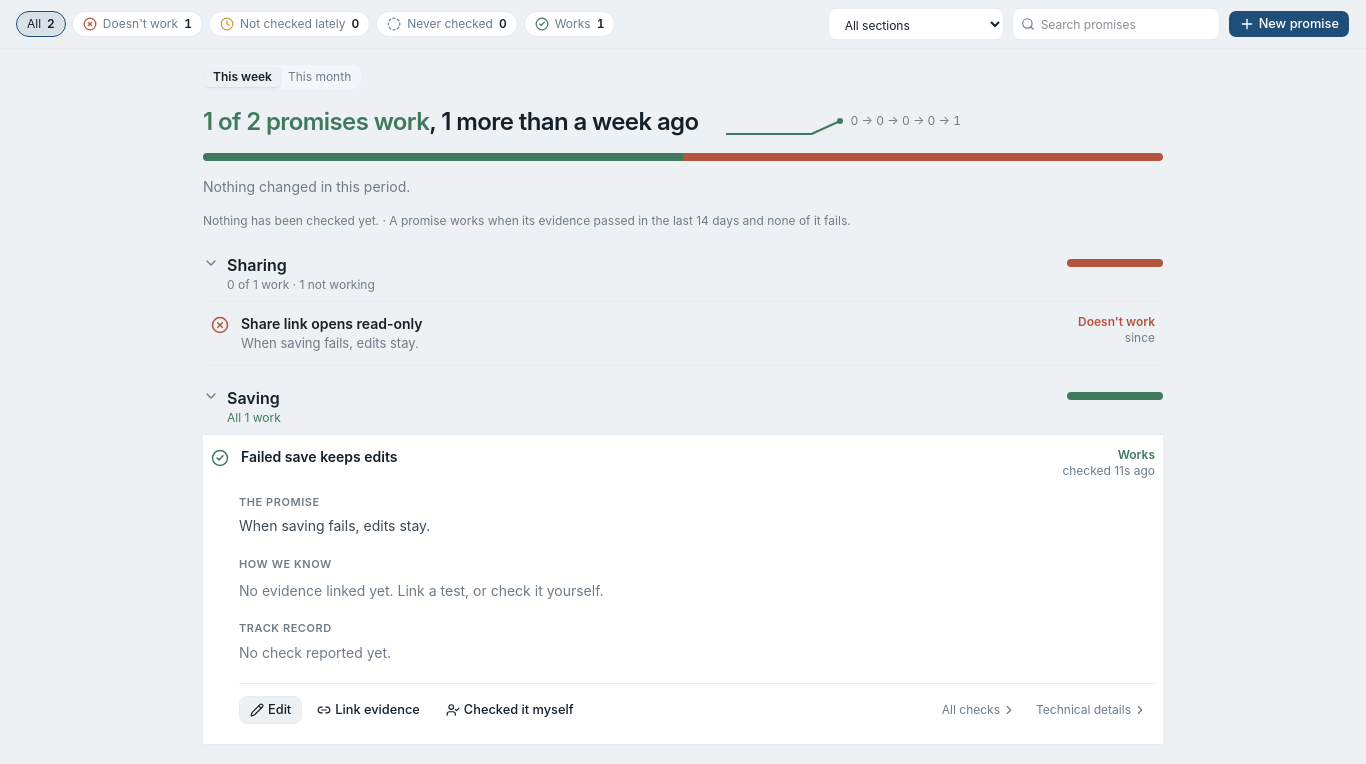
it: TestsView › records a check by hand under the promise's own key
Expected: the text "No check reported yet." is shown, [239,644,391,661]
Click the button "Checked it myself". click: {"x": 510, "y": 710}
box: [435,696,584,724]
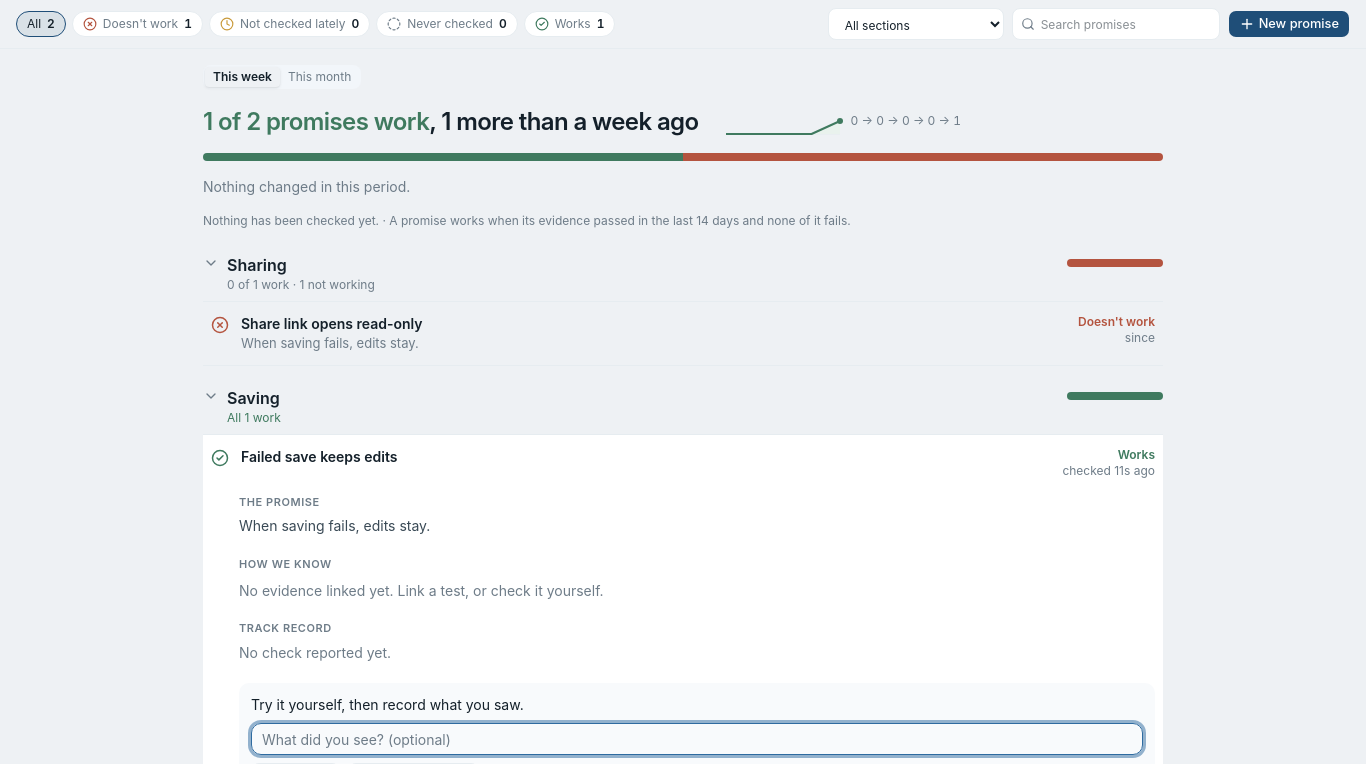
Type "Edits survived a failed save" into the field labelled "What did you see? (optional)". click: {"x": 697, "y": 739}
box: [251,723,1143,755]
(page scrolled)
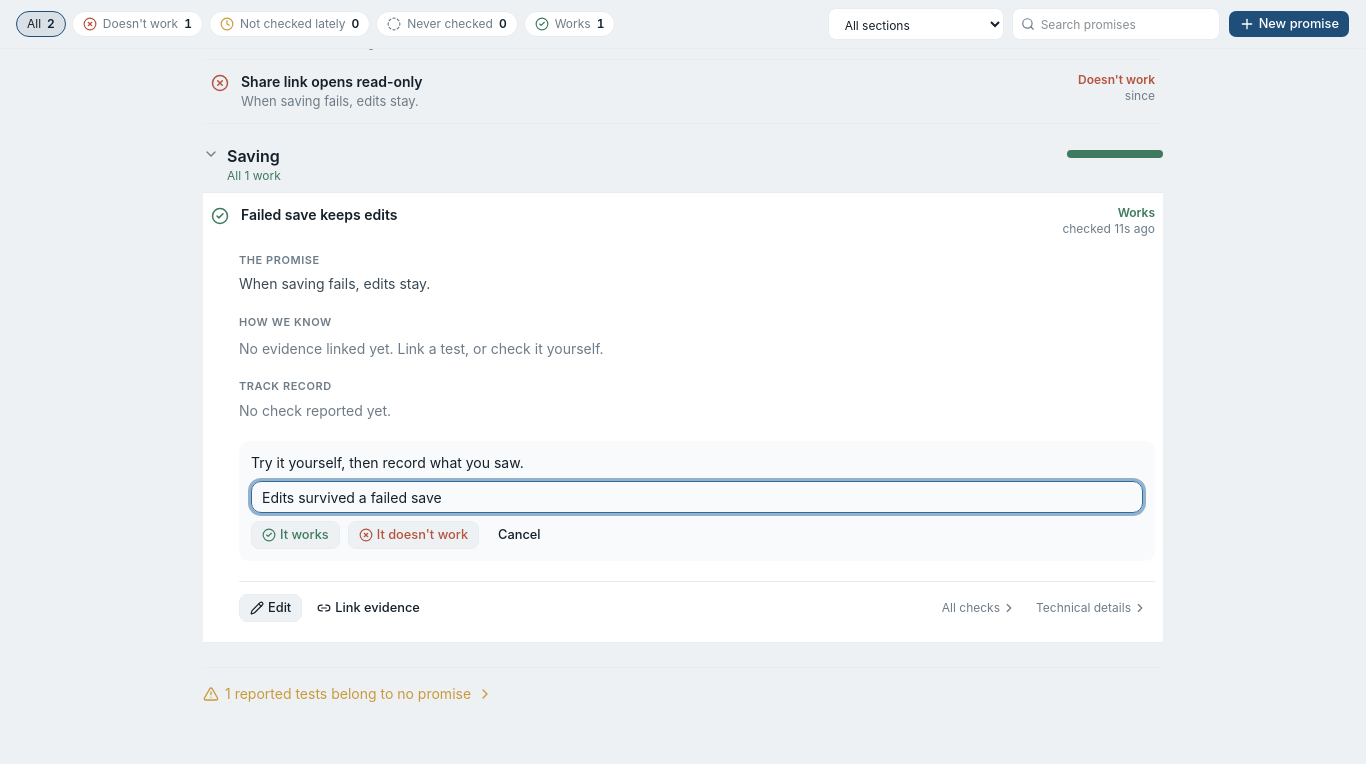
Click the button "It works". click: {"x": 295, "y": 535}
box: [251,521,340,549]
(page scrolled)
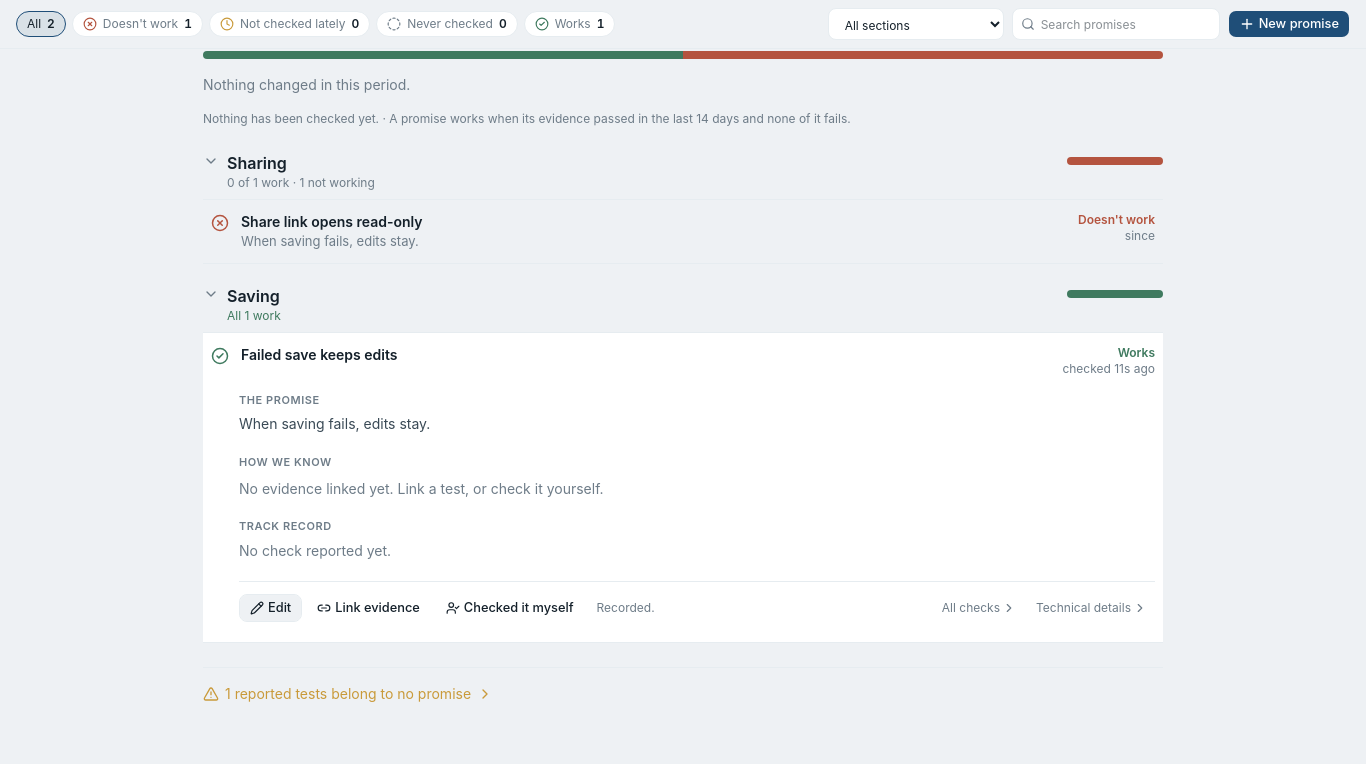
Expected: the text "Recorded." is shown, [596,600,655,615]
